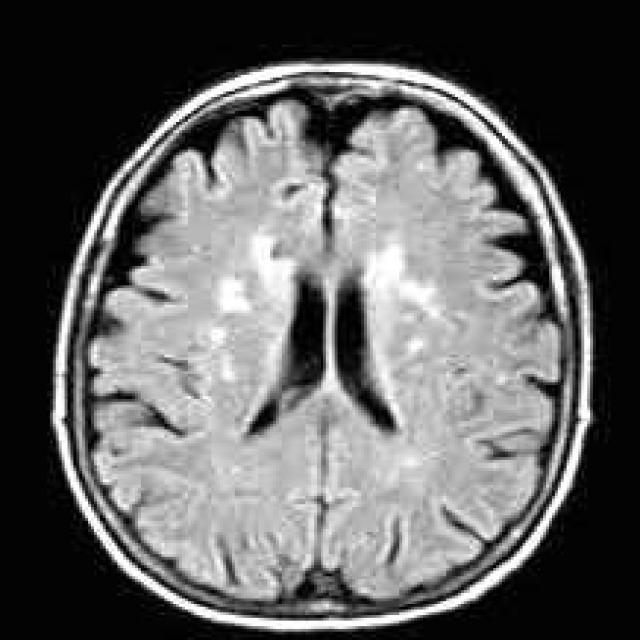notumor: (50, 64, 596, 632)
